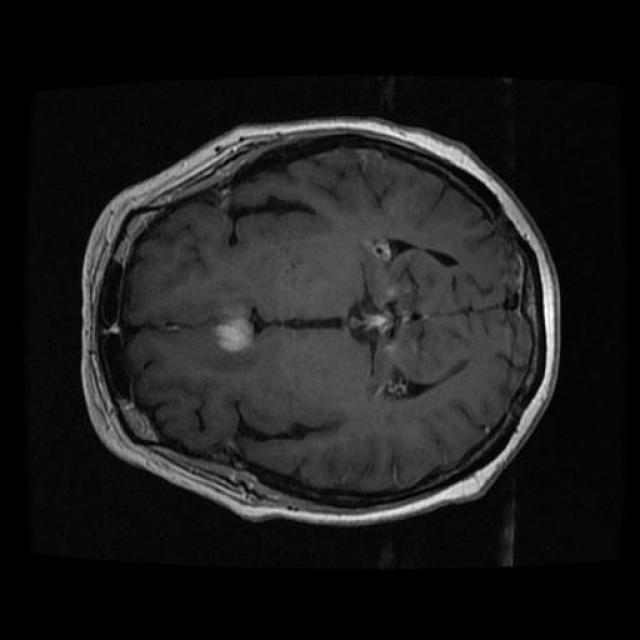Meningioma: (215, 318, 253, 352)
